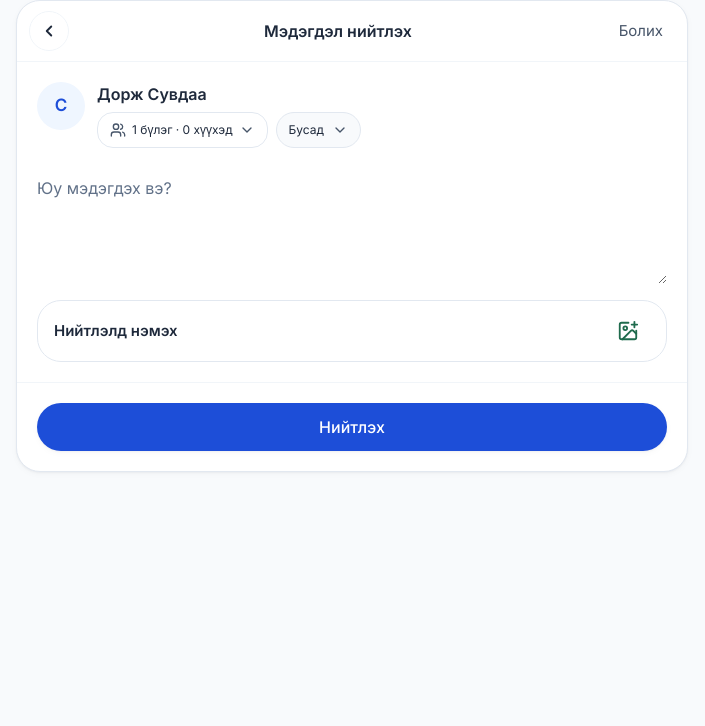
Test case: new notification composer › lets a teacher choose their group or children in it
Click the button with aria-label "Хэнд харагдах:" at (182,130), box [97, 112, 268, 148]
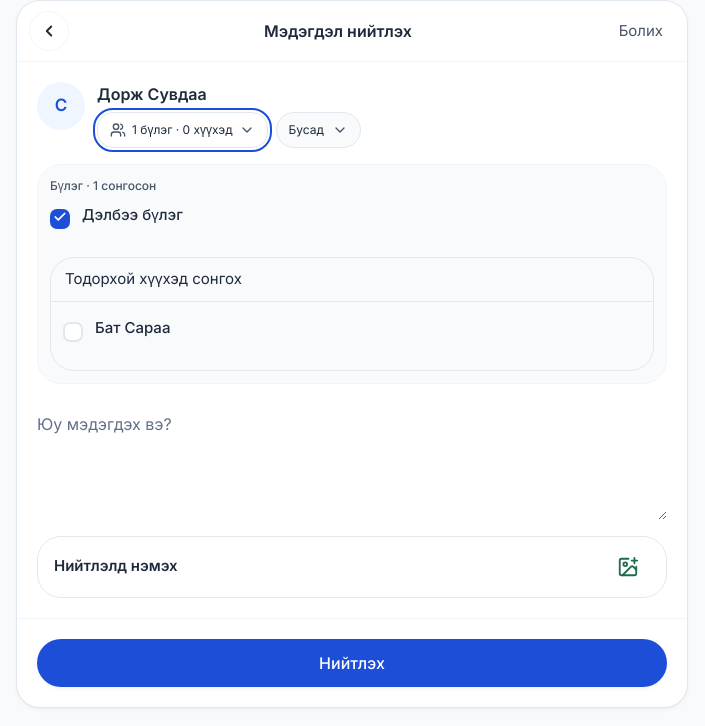
Result: the checkbox labelled "Дэлбээ бүлэг" is shown at [50, 209, 70, 229]
Result: the checkbox labelled "Бат Сараа" is shown at [63, 322, 83, 342]
Result: the text "Тодорхой хүүхэд сонгох" is shown at [65, 269, 242, 288]
